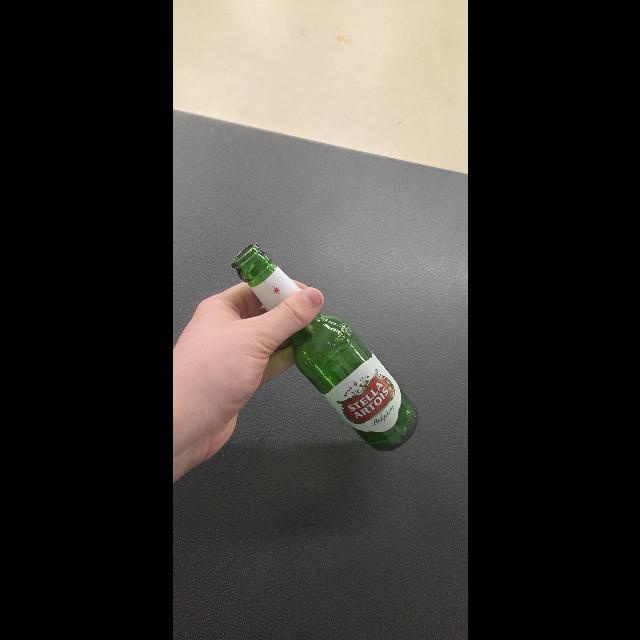Glass: (231, 239, 421, 453)
